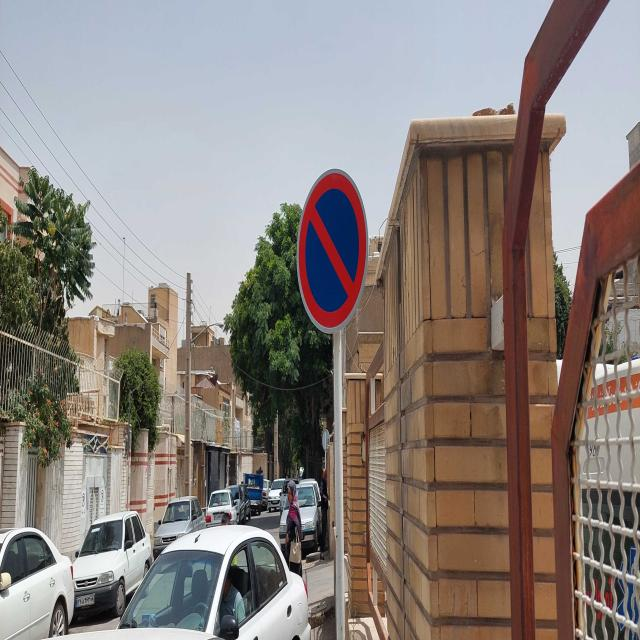forb_stopping: (295, 169, 369, 335)
